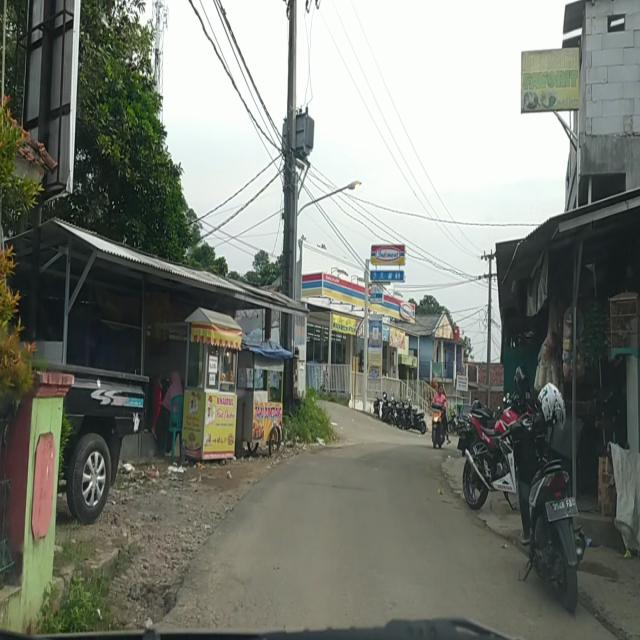Drain Hole: (162, 577, 298, 628)
